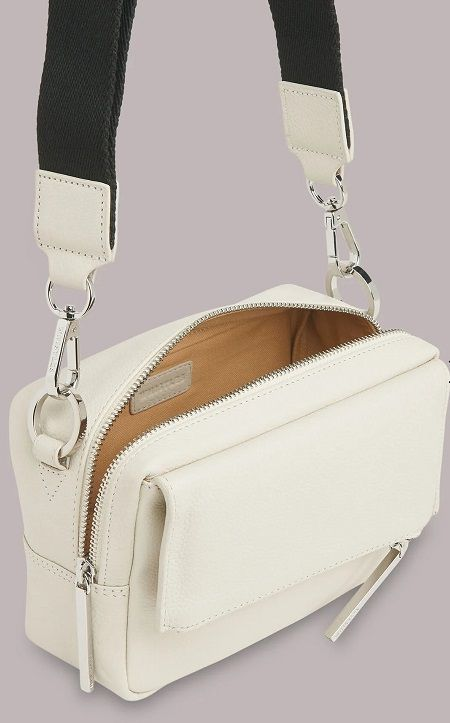cuero: (7, 82, 450, 704)
